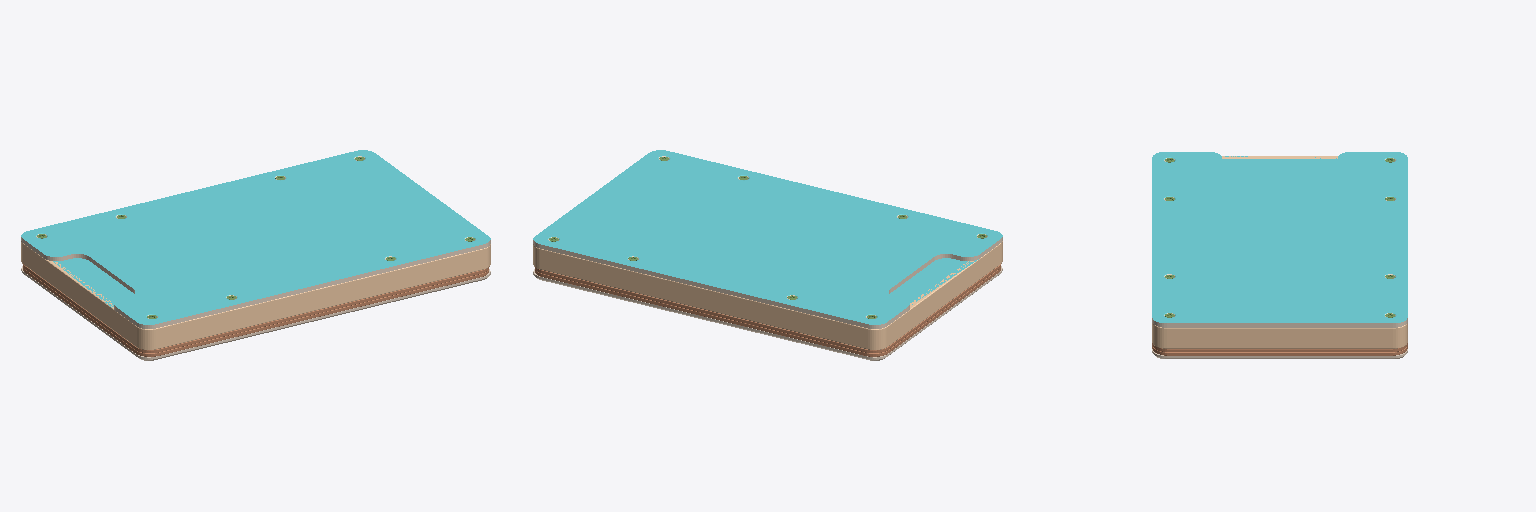
The model's file is WALLET.obj.
3 views of the same model, side by side, from view 1: azimuth 30°, elevation 25°; view 2: azimuth 150°, elevation 25°; view 3: azimuth 270°, elevation 25° (orthographic).
Visible parts, largest first — view 1: WALLET; view 2: WALLET; view 3: WALLET.
Boxes of the visible parts, x1=… form: WALLET: x1=21, y1=150, x2=490, y2=360; WALLET: x1=533, y1=150, x2=1002, y2=360; WALLET: x1=1152, y1=152, x2=1407, y2=358.
Size of the model in its own units: 99.95 by 10 by 62.76.